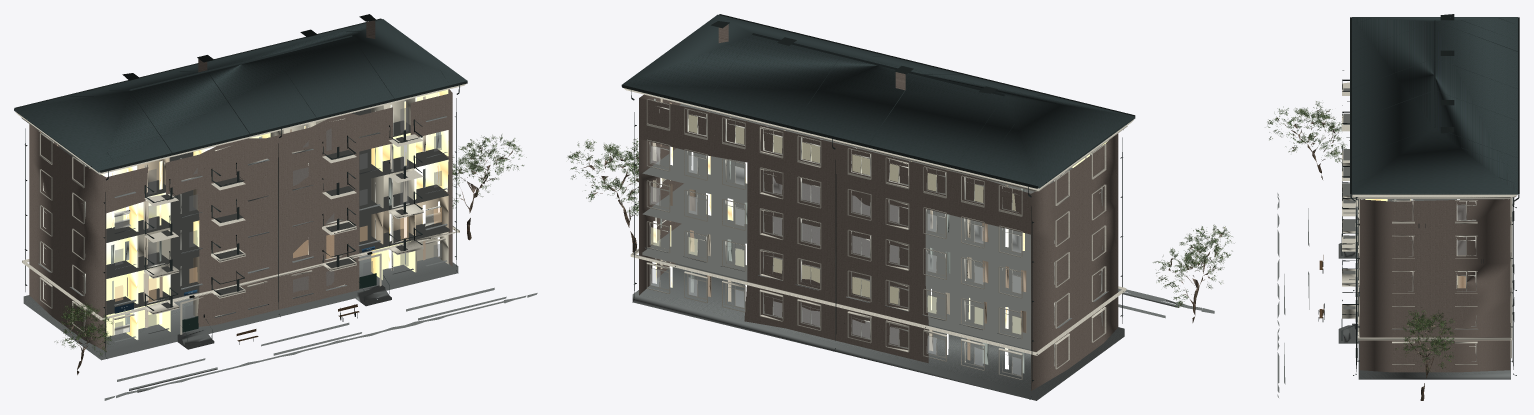
Rendered from toronto_house.glb.
3 renders of one model, left to right at view 1: azimuth 30°, elevation 25°; view 2: azimuth 150°, elevation 25°; view 3: azimuth 270°, elevation 25°, orthographic. The views are drawn at different scales.
Parts seen in each view (by area): view 1: Object_31, Object_40, Object_24, Object_34, Object_33, Object_48, Object_37, Object_28, Object_49, Object_9, Object_51, Object_35 (+6 smaller); view 2: Object_31, Object_40, Object_34, Object_33, Object_24, Object_35, Object_28, Object_37, Object_9, Object_29, Object_47, Object_44 (+4 smaller); view 3: Object_40, Object_31, Object_33, Object_24, Object_9, Object_37, Object_34, Object_35, Object_16, Object_8, Object_28.
Part boxes in pixels (box(x1,y1,x2,y2)): Object_31: box(29, 20, 452, 351); Object_40: box(14, 19, 467, 172); Object_24: box(23, 116, 537, 400); Object_34: box(59, 108, 449, 314); Object_33: box(15, 83, 466, 334); Object_48: box(106, 130, 448, 339); Object_37: box(14, 14, 467, 358); Object_28: box(115, 107, 441, 337); Object_49: box(137, 98, 448, 316); Object_9: box(54, 134, 526, 356); Object_51: box(137, 157, 448, 283); Object_35: box(39, 106, 440, 334); Object_31: box(639, 24, 1118, 390); Object_40: box(621, 14, 1135, 188); Object_34: box(642, 104, 1072, 349); Object_33: box(623, 88, 1133, 379); Object_24: box(632, 247, 1214, 400); Object_35: box(649, 106, 1102, 376); Object_28: box(651, 146, 1020, 374); Object_37: box(622, 14, 1135, 399); Object_9: box(567, 138, 1234, 307); Object_29: box(651, 115, 1020, 334); Object_47: box(660, 102, 1049, 360); Object_44: box(654, 98, 1025, 373); Object_40: box(1352, 17, 1517, 194); Object_31: box(1359, 199, 1510, 372); Object_33: box(1342, 82, 1517, 364); Object_24: box(1277, 193, 1514, 397); Object_9: box(1267, 101, 1454, 371); Object_37: box(1318, 14, 1519, 375); Object_34: box(1343, 88, 1504, 309); Object_35: box(1360, 199, 1508, 361); Object_16: box(1291, 121, 1438, 400); Object_8: box(1276, 110, 1450, 359); Object_28: box(1457, 205, 1465, 254).
Bounding box in the file's own units: 47.26 × 20.14 × 20.33.
Materials: 26 (10 with a texture image).
